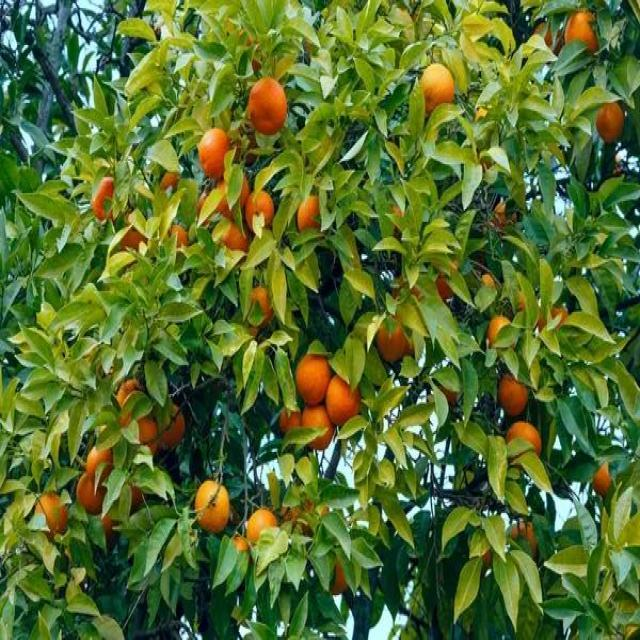Jeruk Sudah Matang: (244, 77, 291, 138), (416, 61, 458, 113), (195, 127, 233, 182), (296, 350, 330, 406), (376, 313, 412, 364), (563, 9, 602, 55), (326, 375, 360, 427), (194, 480, 229, 529), (34, 491, 68, 540), (85, 175, 122, 220), (295, 195, 330, 239), (508, 420, 543, 462), (594, 97, 626, 142), (246, 189, 275, 235), (498, 373, 529, 412), (247, 507, 280, 543), (592, 457, 615, 495)
